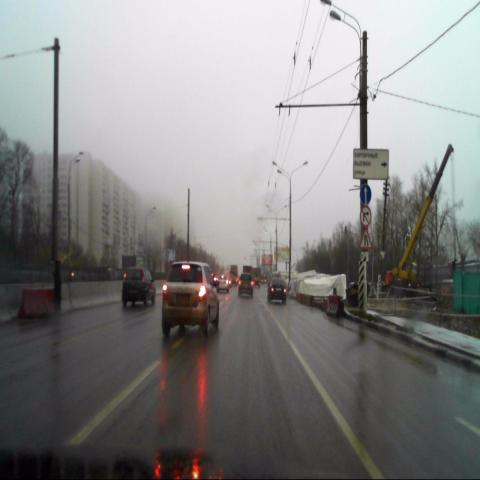4_1_1: (360, 184, 372, 205)
